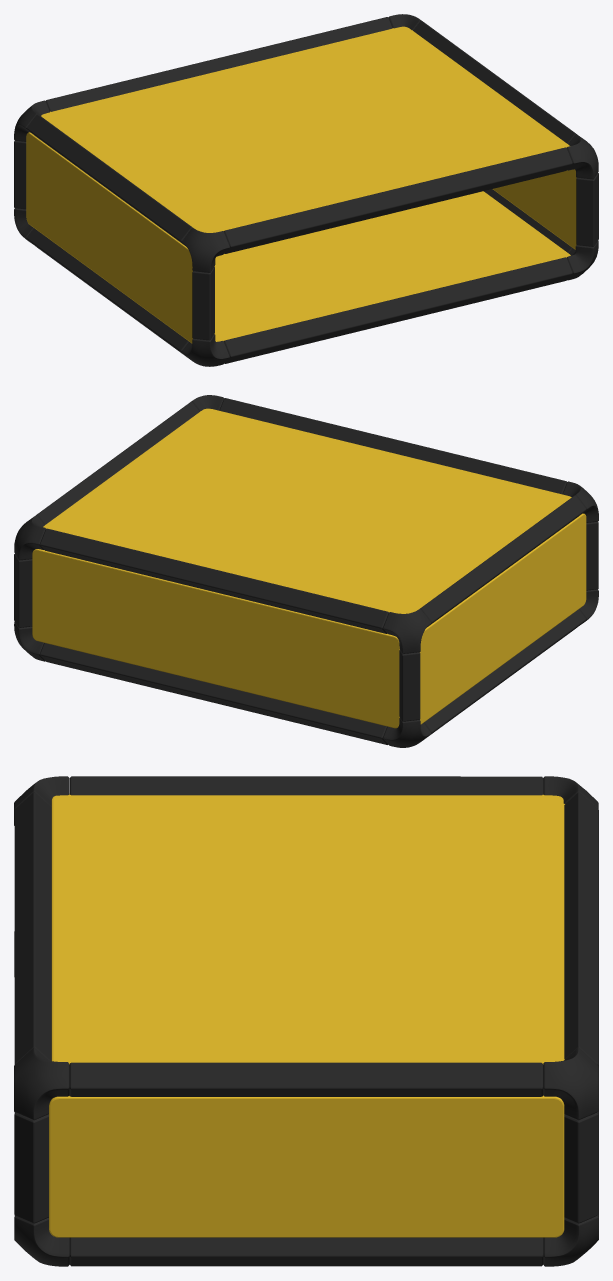
3 views of the same model, one above another, from view 1: azimuth 30°, elevation 25°; view 2: azimuth 150°, elevation 25°; view 3: azimuth 270°, elevation 25° (orthographic). The views are drawn at different scales.
Visible parts, largest first — view 1: 420x329x79; view 2: 420x329x79; view 3: 420x329x79.
Part boxes in pixels (x1,y1,x2,y2): 420x329x79: [14, 14, 598, 366]; 420x329x79: [14, 395, 598, 747]; 420x329x79: [14, 776, 598, 1266].
Bounding box in the file's own units: 0.4977 × 0.1566 × 0.4063.
